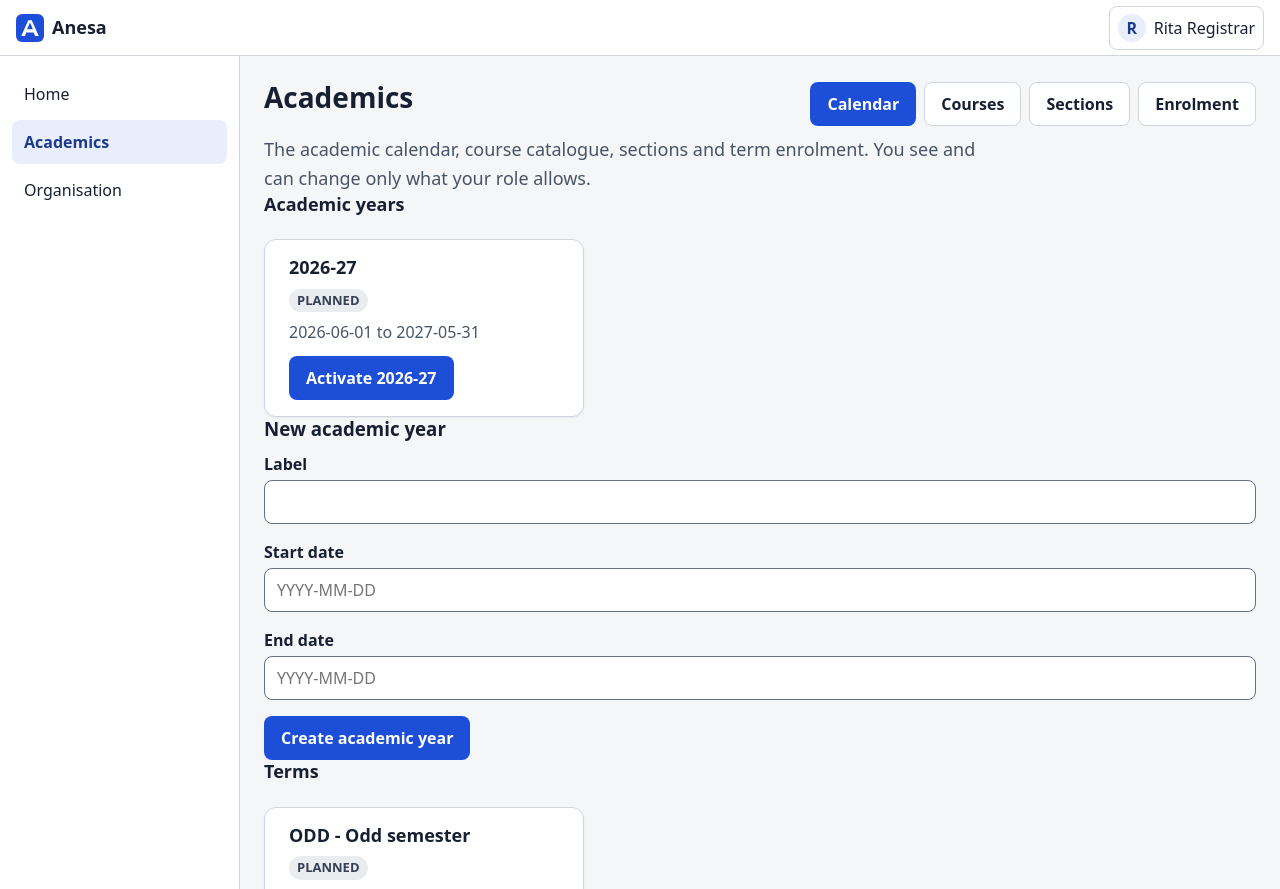
Scenario: Academics page: calendar › validates, creates an academic year with the CSRF token and refreshes the list
Expected: the heading "2026-27" is shown, [289,255,357,279]
Click the button "Create academic year".
click(367, 738)  # box [264,716,470,760]
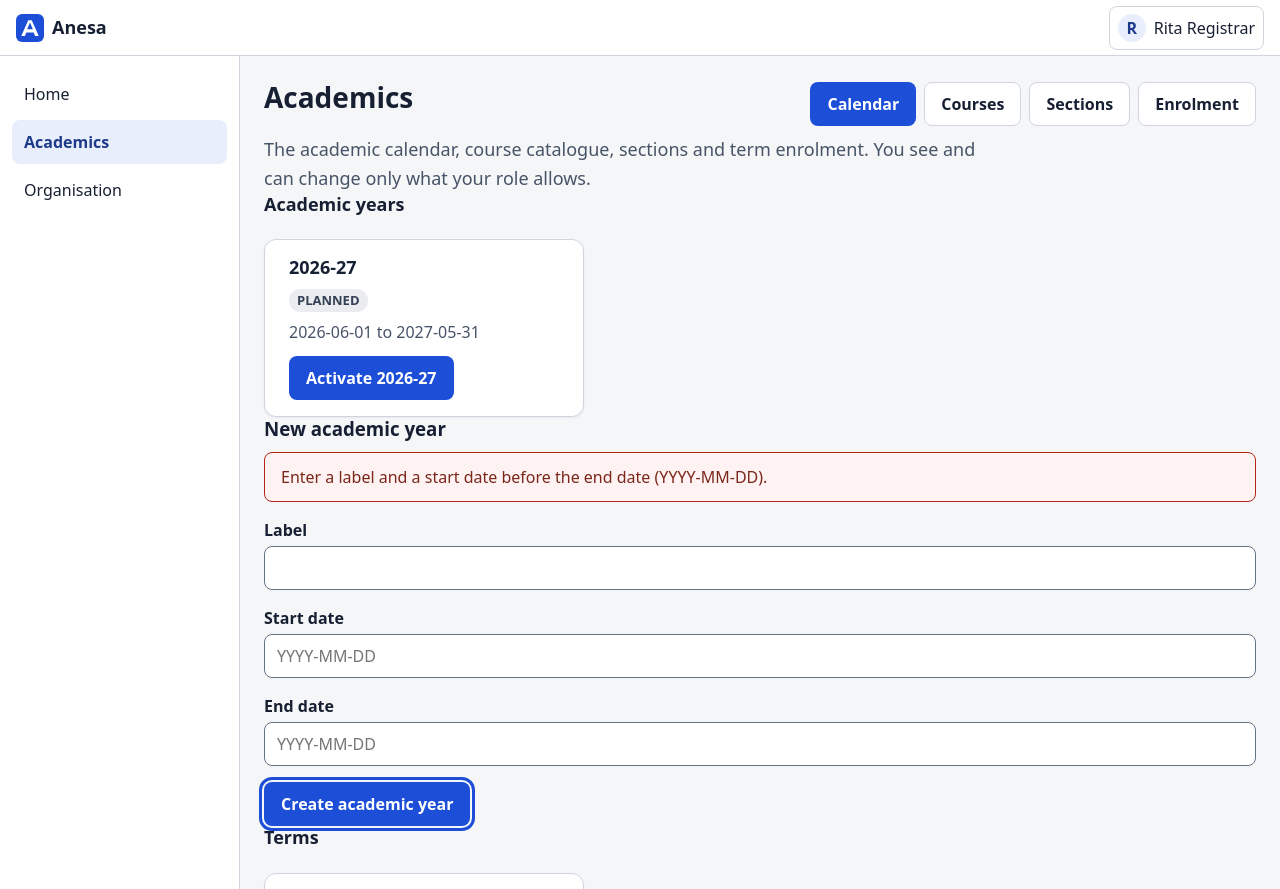
Expected: the text "Enter a label and a start date before the end date (YYYY-MM-DD)." is shown, [264,452,1256,502]
Type "2027-28" into the field labelled "Label".
click(760, 568); type("2027-28")  # box [264,546,1256,590]
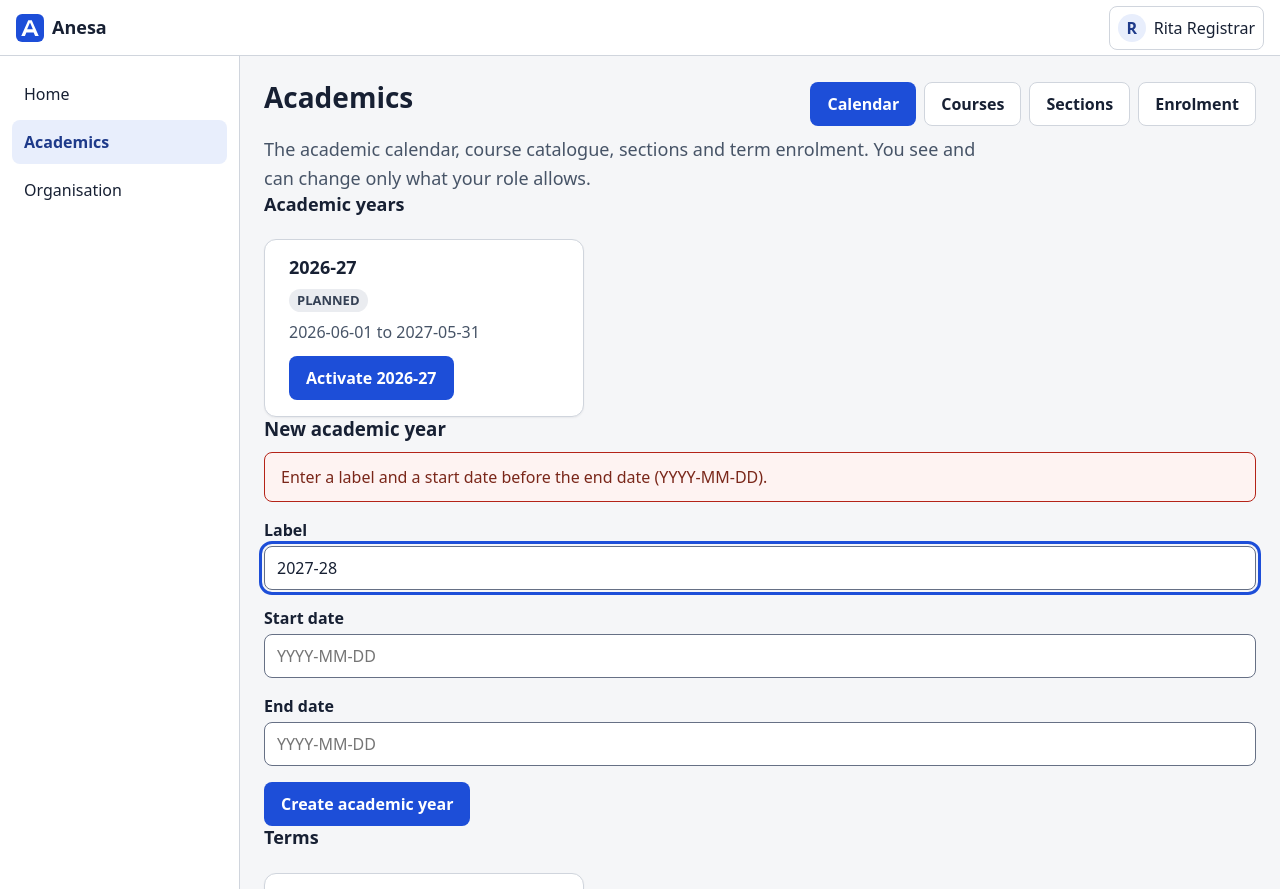
Type "2027-06-01" into the field labelled "Start date".
click(760, 656); type("2027-06-01")  # box [264,634,1256,678]
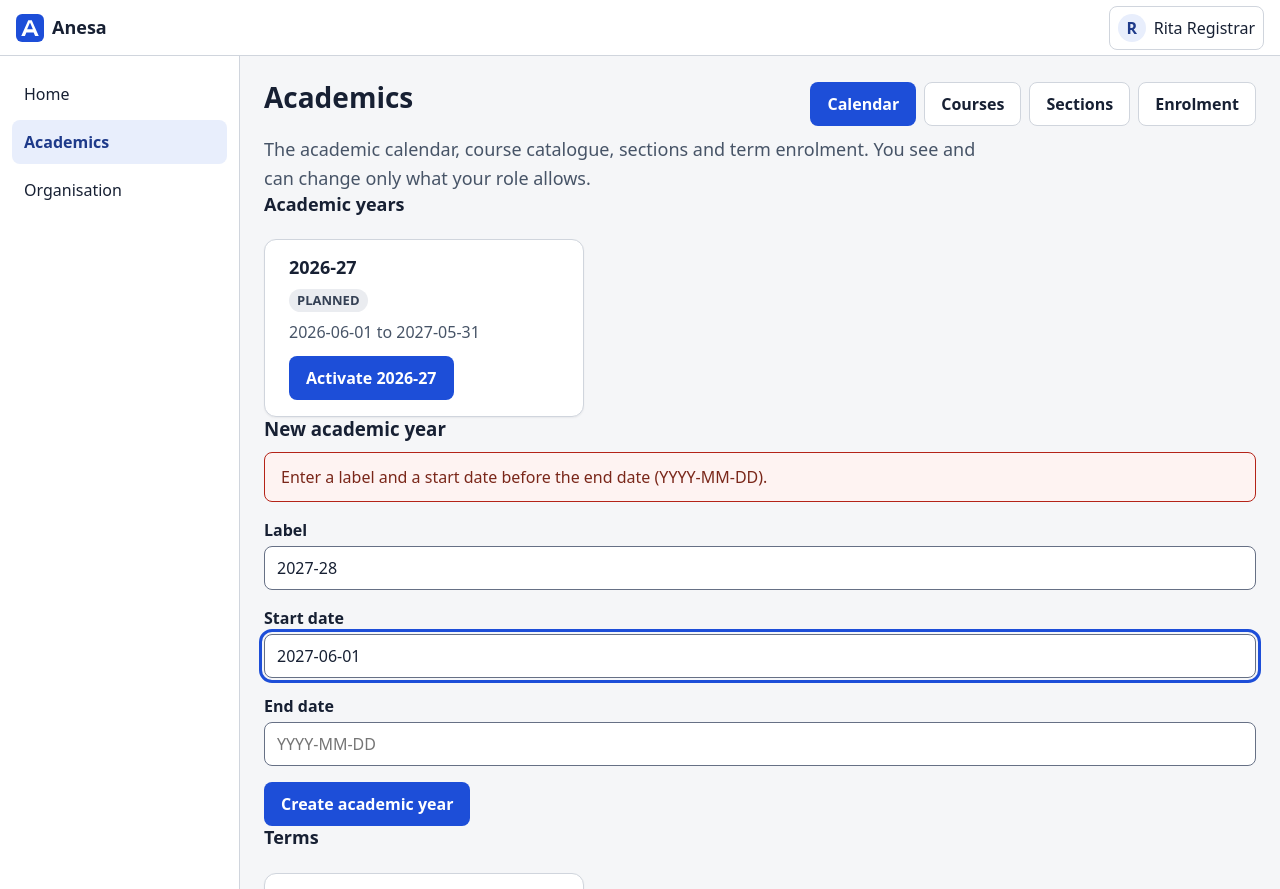
Type "2028-05-31" into the field labelled "End date".
click(760, 744); type("2028-05-31")  # box [264,722,1256,766]
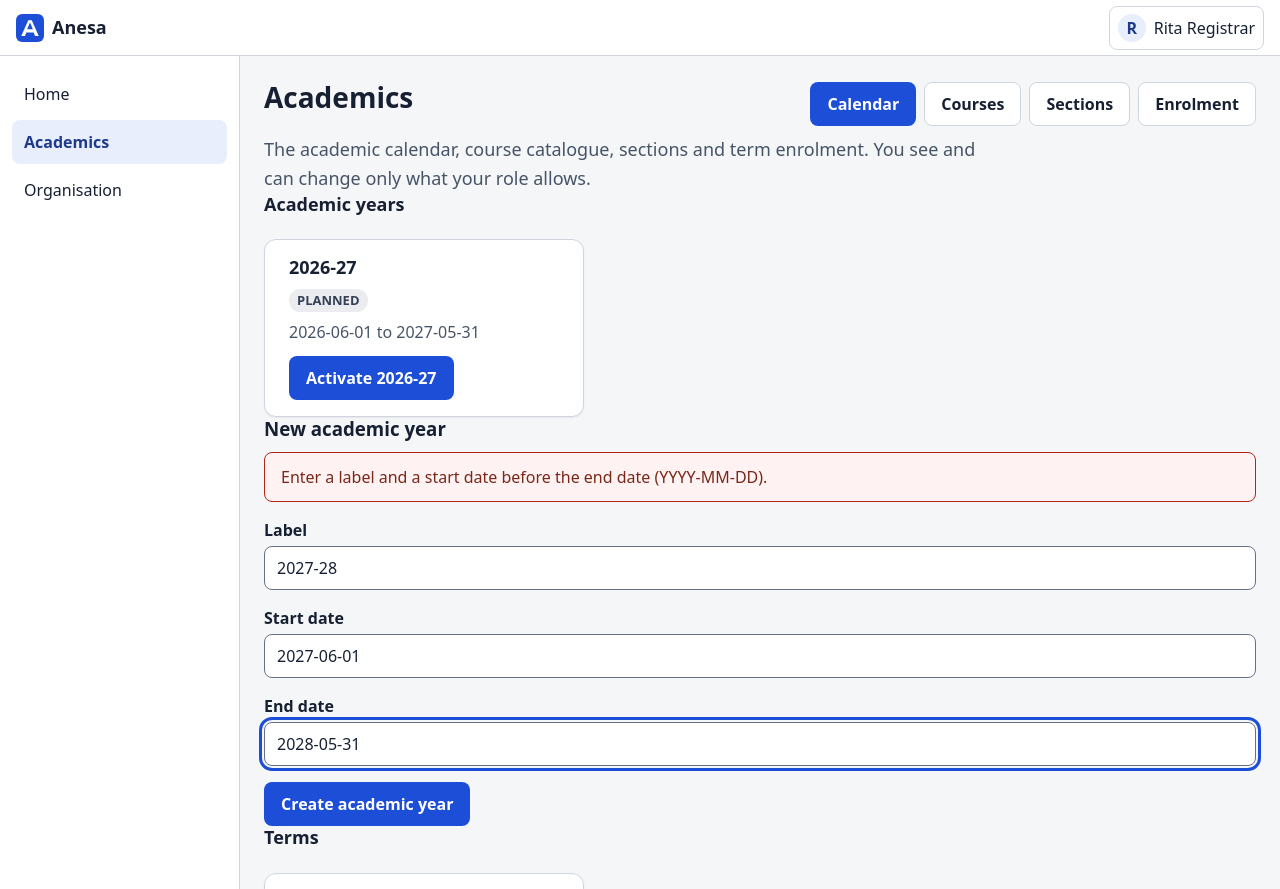
Click the button "Create academic year".
click(367, 804)  # box [264,782,470,826]
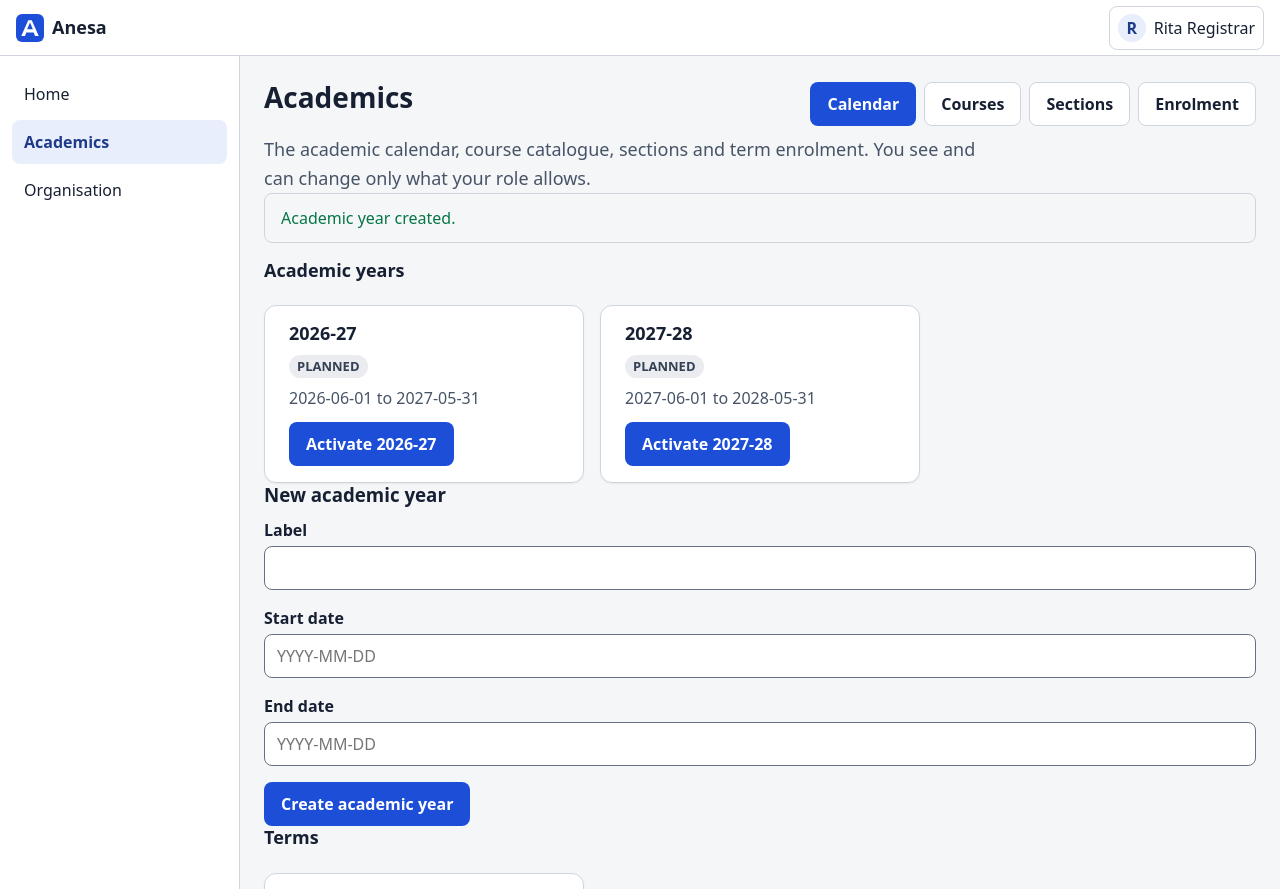
Expected: the text "Academic year created." is shown, [264,193,1256,243]
Expected: the heading "2027-28" is shown, [625,321,693,345]
